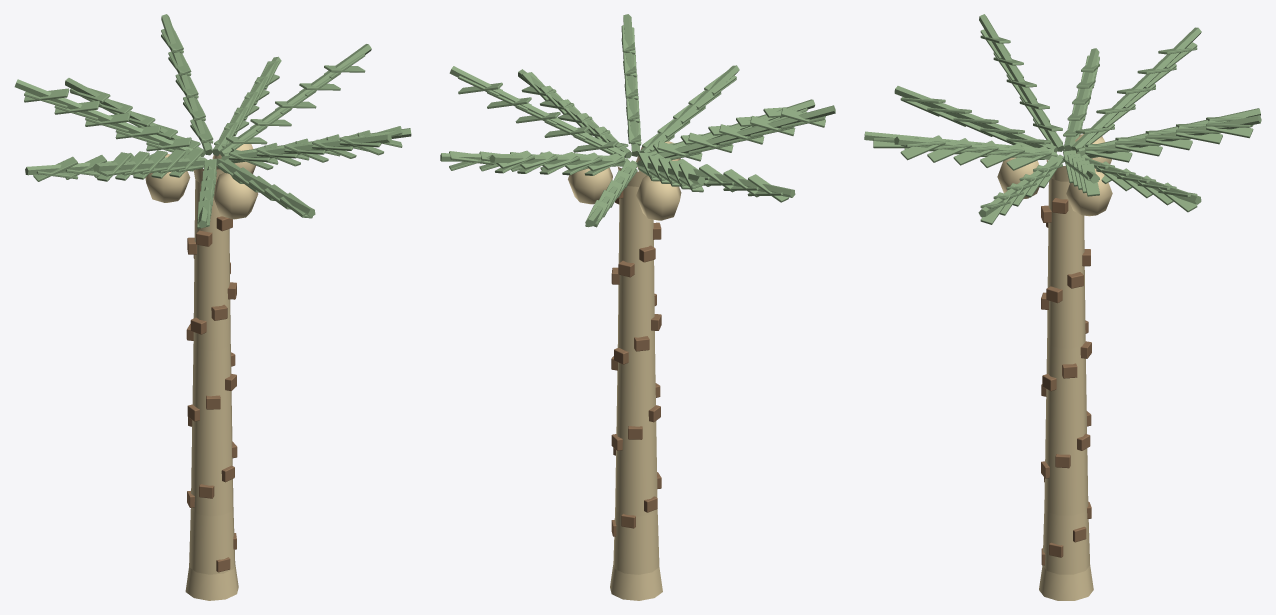
File: date-palm-c311e205.glb
3 renders of one model, left to right at view 1: azimuth 30°, elevation 25°; view 2: azimuth 150°, elevation 25°; view 3: azimuth 270°, elevation 25°, orthographic.
Visible parts, largest first — view 1: date-palm; view 2: date-palm; view 3: date-palm.
Part boxes in pixels (x1,y1,x2,y2): date-palm: [14, 14, 411, 600]; date-palm: [440, 14, 835, 600]; date-palm: [864, 14, 1261, 600].
Size of the model in its own units: 4.38 by 6 by 4.34.
